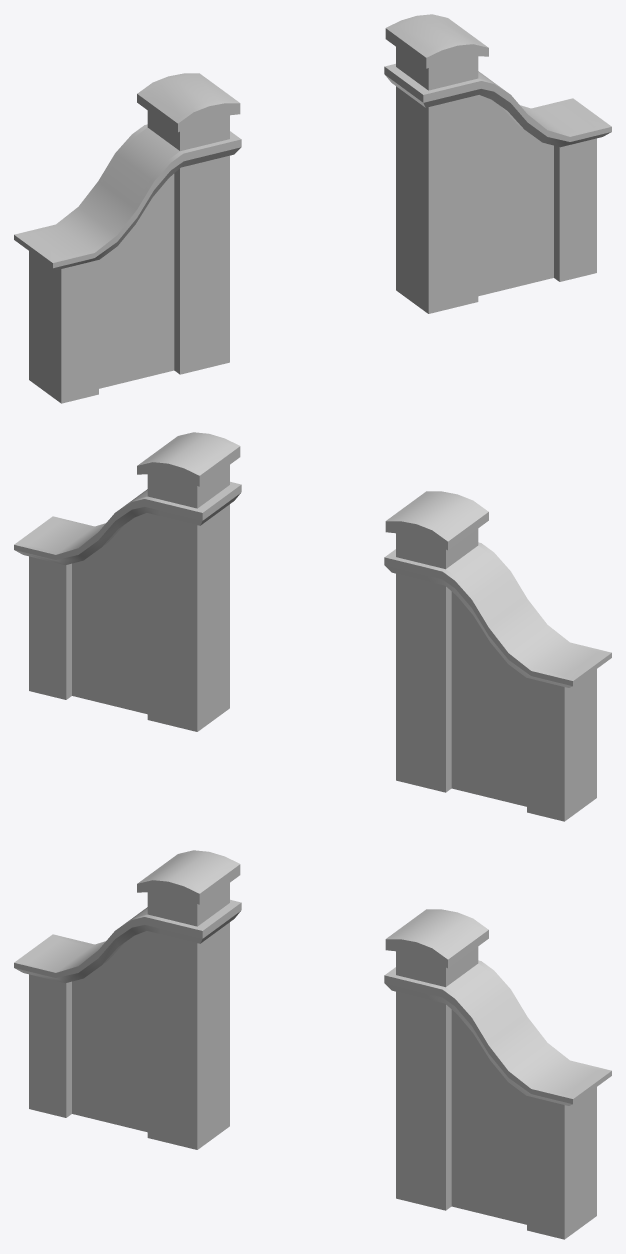
The model's file is Gerbang_Kepatihan.fbx.
The picture shows the model from 3 angles, top to bottom: view 1: azimuth 30°, elevation 25°; view 2: azimuth 150°, elevation 25°; view 3: azimuth 330°, elevation 25°; orthographic projection.
Visible parts, largest first — view 1: Cube.002; view 2: Cube.002; view 3: Cube.002.
Boxes of the visible parts, x1,y1,x2,y2 form: Cube.002: [14, 14, 611, 403]; Cube.002: [14, 432, 611, 821]; Cube.002: [14, 850, 611, 1239].
Size of the model in its own units: 479 by 218 by 60.6.
Materials: 1 (1 with a texture image).
